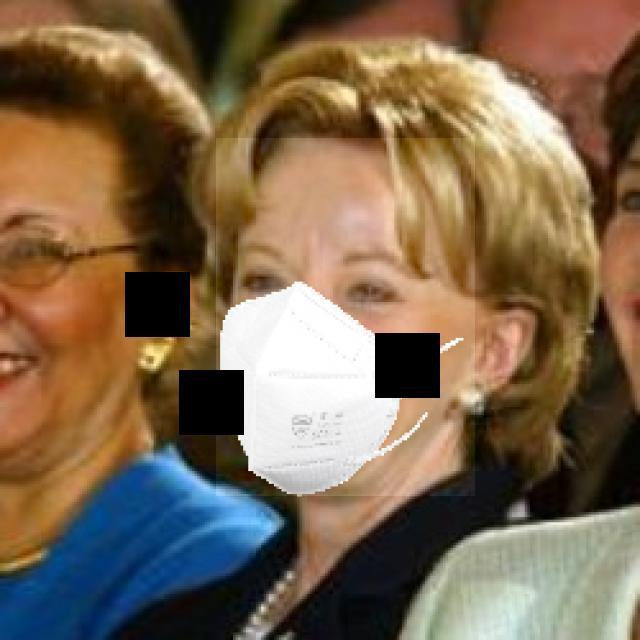kn95: (216, 138, 475, 496)
